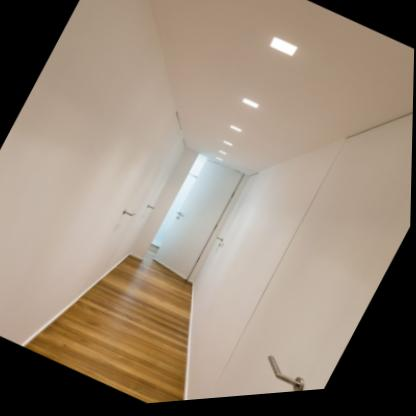Wooden floor: (24, 258, 192, 406)
